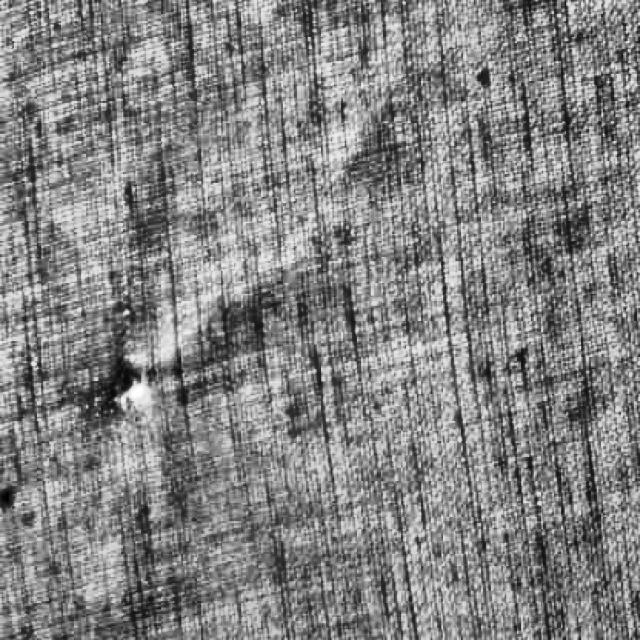hole: (105, 368, 158, 420)
